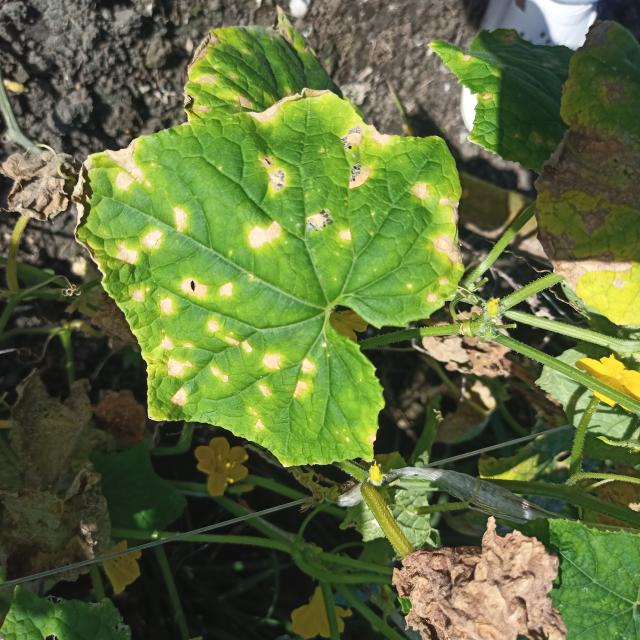disease_cucumber: (84, 94, 459, 442)
